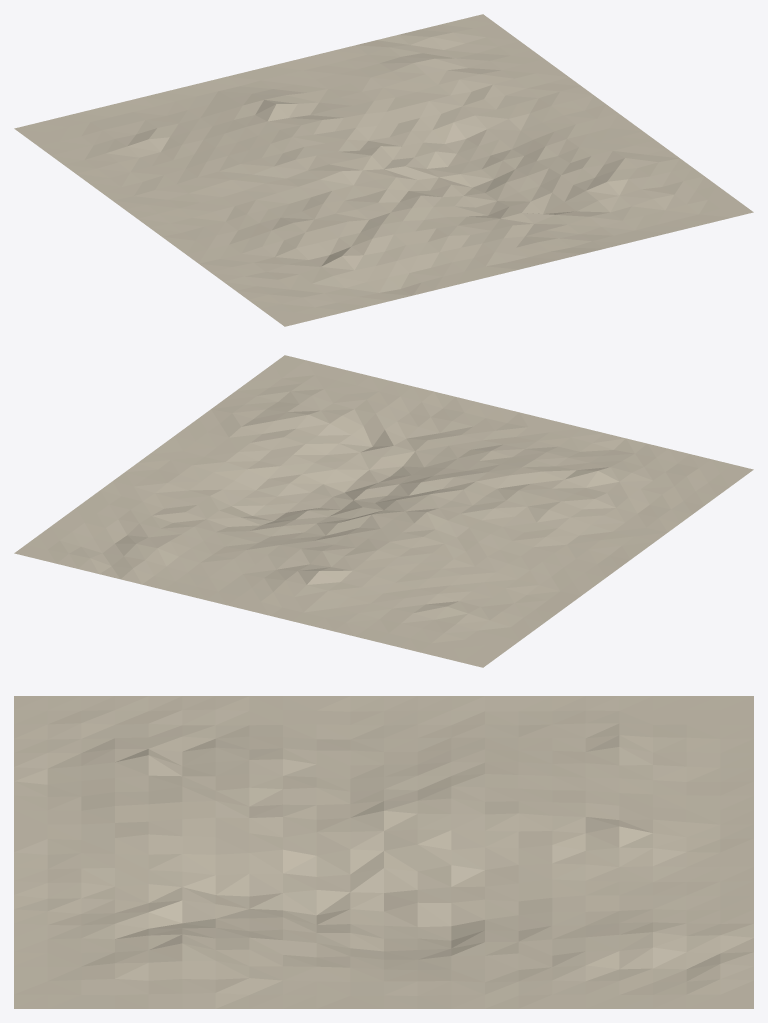
Rendered from Ground_s_05.fbx.
3 renders of one model, top to bottom at view 1: azimuth 30°, elevation 25°; view 2: azimuth 150°, elevation 25°; view 3: azimuth 270°, elevation 25°, orthographic. The views are drawn at different scales.
Parts seen in each view (by area): view 1: Ground_s_05; view 2: Ground_s_05; view 3: Ground_s_05.
Boxes of the visible parts, bbox=[...] form: Ground_s_05: bbox=[14, 14, 753, 326]; Ground_s_05: bbox=[14, 355, 753, 667]; Ground_s_05: bbox=[14, 696, 753, 1008].
Size of the model in its own units: 5000 by 250 by 5000.
